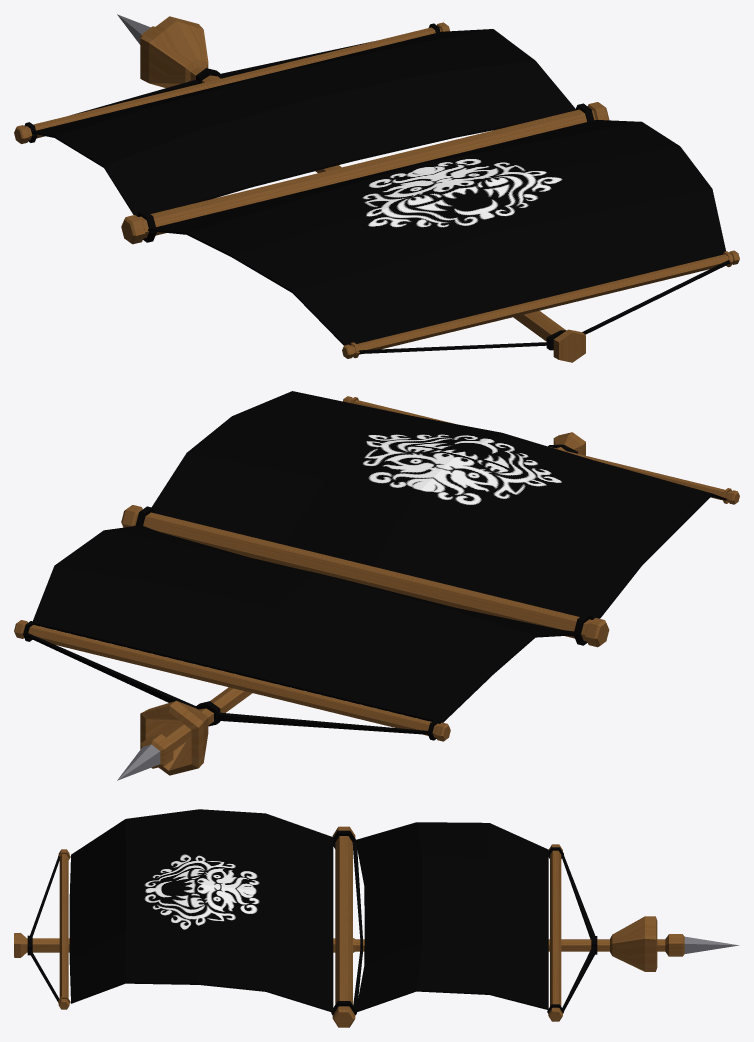
Rendered from sail_a_15.fbx.
3 renders of one model, top to bottom at view 1: azimuth 30°, elevation 25°; view 2: azimuth 150°, elevation 25°; view 3: azimuth 270°, elevation 25°, orthographic. The views are drawn at different scales.
Visible parts, largest first — view 1: Cube.084; view 2: Cube.084; view 3: Cube.084.
Part boxes in pixels (left/top/right/bottom): Cube.084: left=14, top=14, right=739, bottom=362; Cube.084: left=14, top=391, right=739, bottom=780; Cube.084: left=14, top=809, right=739, bottom=1027.
Bounding box in the file's own units: 175 × 38.56 × 290.
